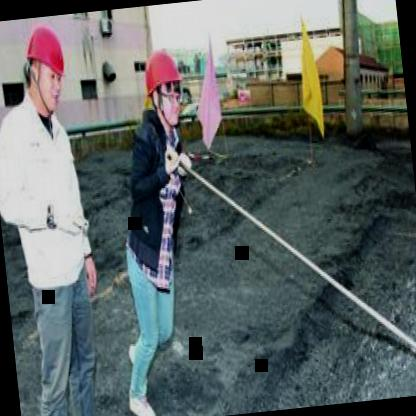helmet: (15, 18, 73, 121), (140, 42, 190, 134)
